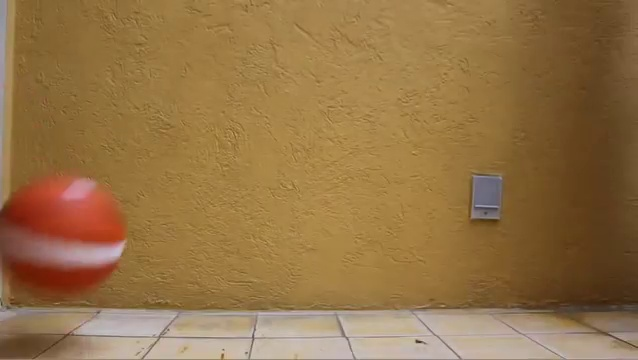ball: (3, 172, 125, 300)
